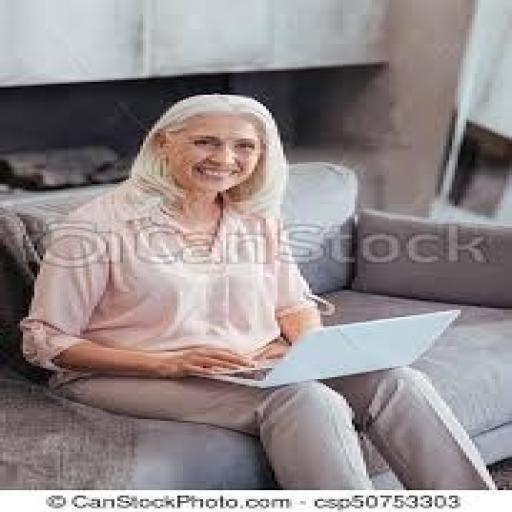using_laptop: (183, 306, 463, 390)
